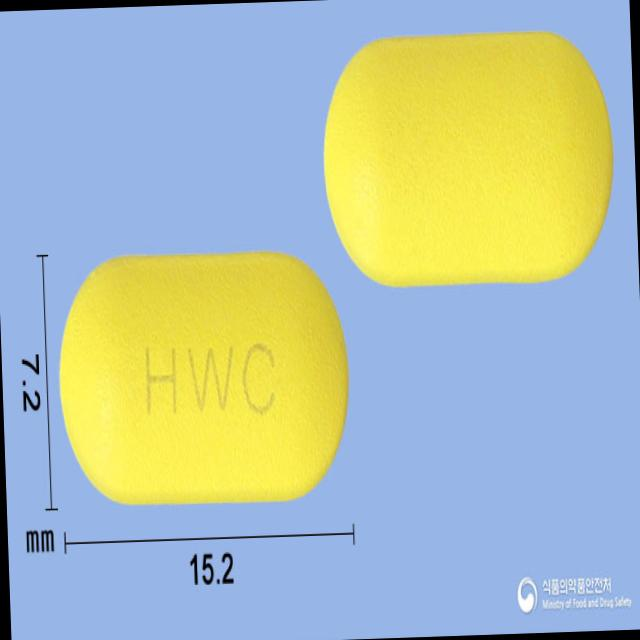Clacid - 250mg: (51, 238, 360, 520)
